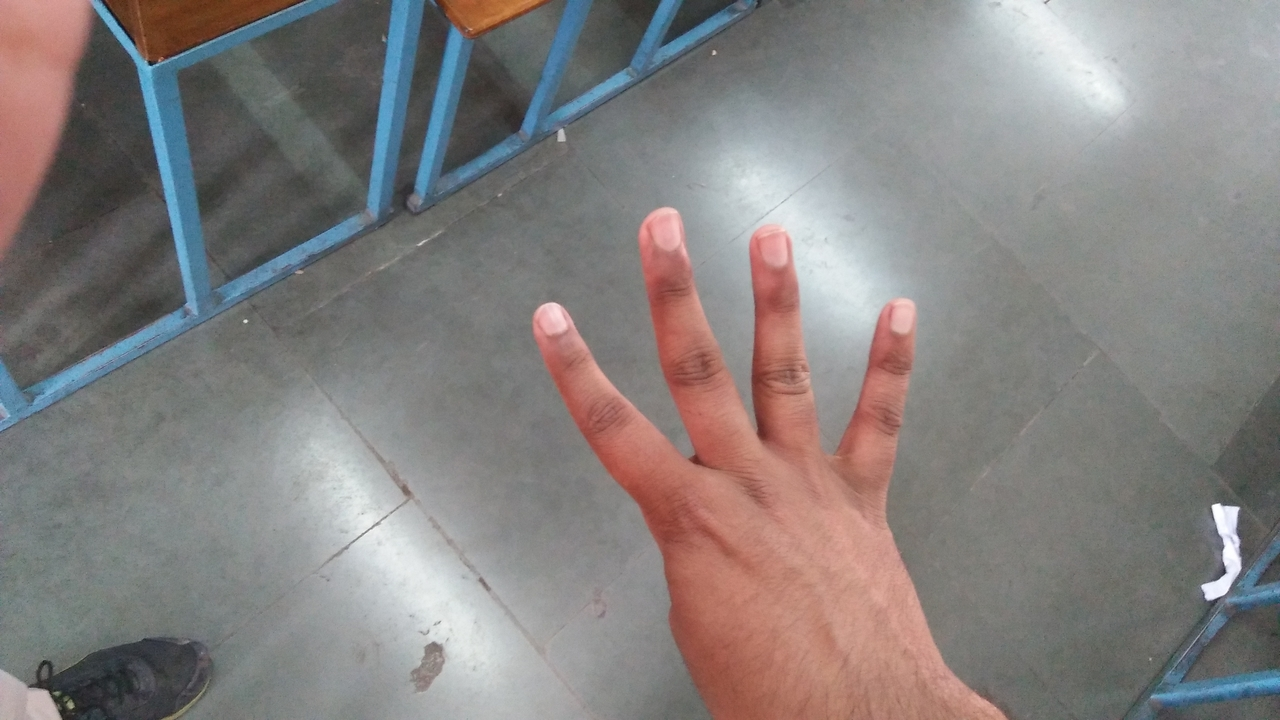fingertip: (630, 200, 694, 260), (870, 286, 928, 346), (524, 294, 582, 352), (746, 218, 806, 274)
